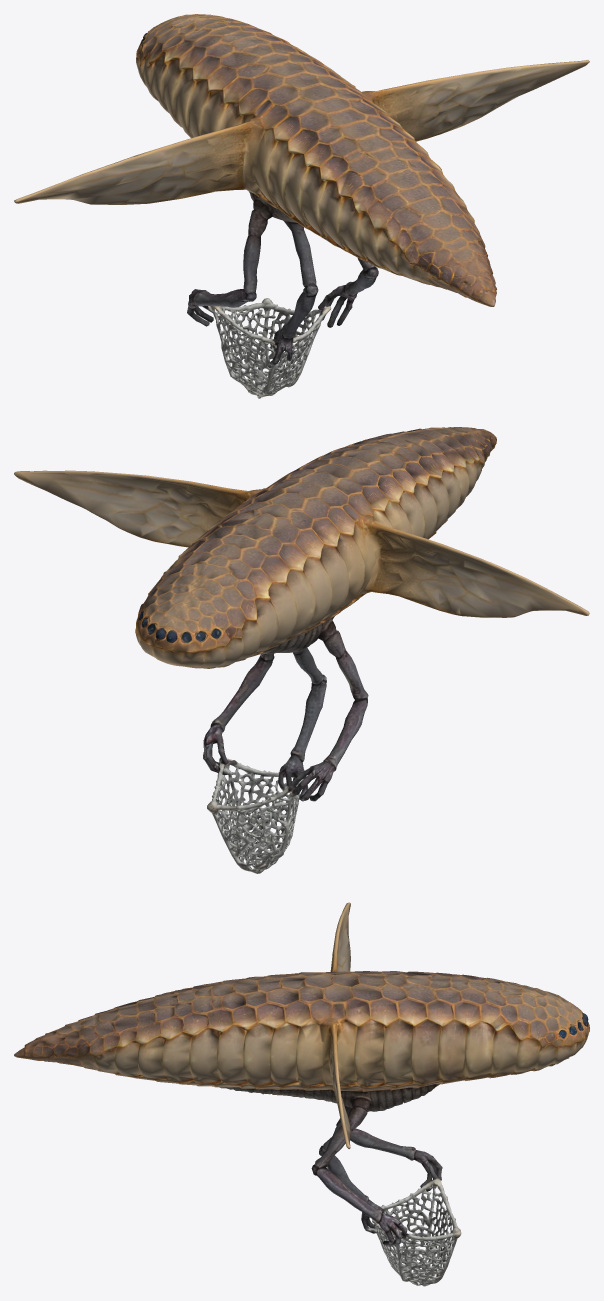
The model's file is alien-aeronaut.glb.
The picture shows the model from 3 angles, top to bottom: view 1: azimuth 30°, elevation 25°; view 2: azimuth 150°, elevation 25°; view 3: azimuth 270°, elevation 25°; orthographic projection. The views are drawn at different scales.
Visible parts, largest first — view 1: tripo_node_e8e03ee0-7be2-4cc3-8f54-3a139ea78531; view 2: tripo_node_e8e03ee0-7be2-4cc3-8f54-3a139ea78531; view 3: tripo_node_e8e03ee0-7be2-4cc3-8f54-3a139ea78531.
Part boxes in pixels (left/top/right/bottom): tripo_node_e8e03ee0-7be2-4cc3-8f54-3a139ea78531: left=14, top=14, right=589, bottom=398; tripo_node_e8e03ee0-7be2-4cc3-8f54-3a139ea78531: left=14, top=427, right=589, bottom=873; tripo_node_e8e03ee0-7be2-4cc3-8f54-3a139ea78531: left=14, top=902, right=589, bottom=1286.
Size of the model in its own units: 0.9997 by 0.5863 by 0.9936.
1 material, 1 textured.
